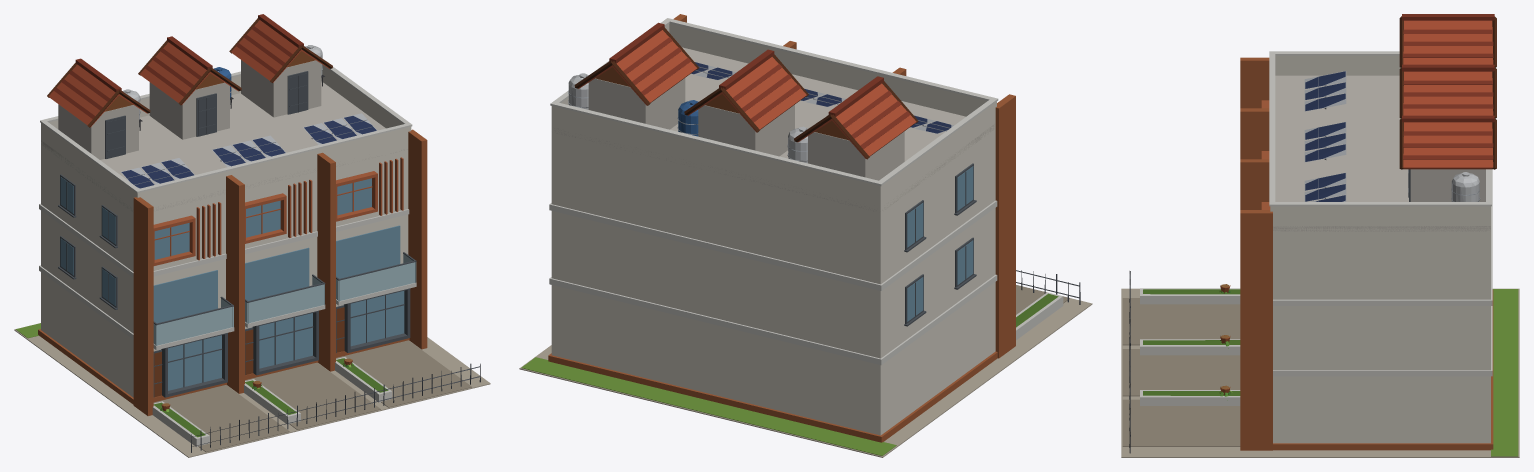
File: home_3.glb
3 renders of one model, left to right at view 1: azimuth 30°, elevation 25°; view 2: azimuth 150°, elevation 25°; view 3: azimuth 270°, elevation 25°, orthographic. The views are drawn at different scales.
Visible parts, largest first — view 1: body; view 2: body; view 3: body.
Part boxes in pixels (box(x1,y1,x2,y2)): body: box(14, 14, 490, 457); body: box(519, 14, 1092, 457); body: box(1121, 14, 1519, 457).
Size of the model in its own units: 15.9 by 13.38 by 15.9.
